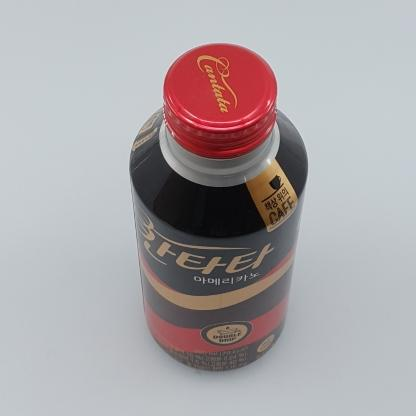--B_F---------: (129, 43, 308, 371)
